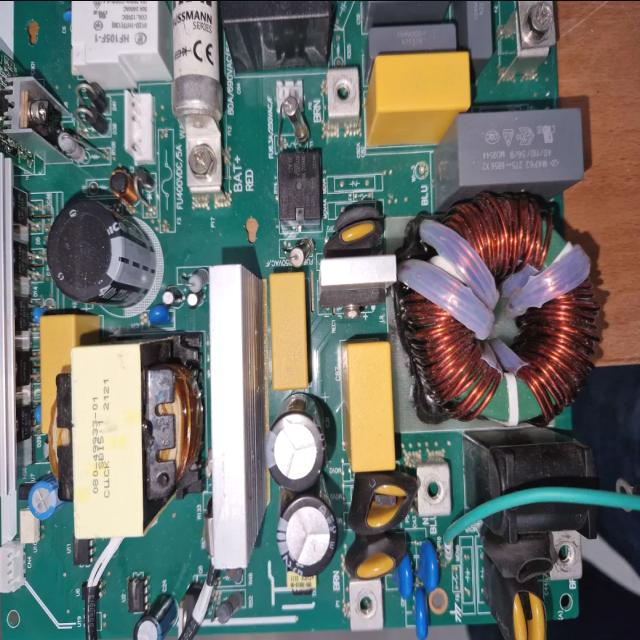A: (406, 193, 598, 423)
B: (171, 0, 223, 193)
C: (46, 202, 154, 303), (264, 404, 328, 490), (276, 492, 338, 574)
